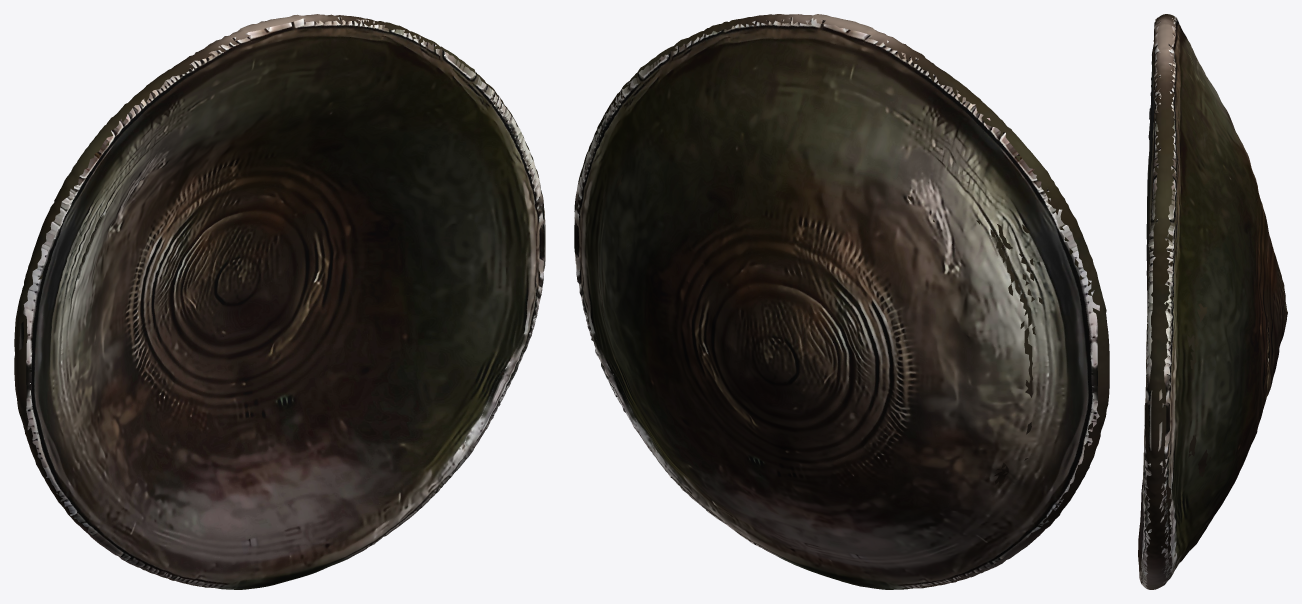
File: kfl-2312.glb
3 renders of one model, left to right at view 1: azimuth 30°, elevation 25°; view 2: azimuth 150°, elevation 25°; view 3: azimuth 270°, elevation 25°, orthographic. The views are drawn at different scales.
Visible parts, largest first — view 1: kfl-2312; view 2: kfl-2312; view 3: kfl-2312.
Part boxes in pixels (<box>): kfl-2312: <box>14,14,545,589</box>; kfl-2312: <box>574,14,1109,589</box>; kfl-2312: <box>1138,14,1287,589</box>.
Bounding box in the file's own units: 0.9828 × 0.9945 × 0.2563.
4 materials, 4 textured.
